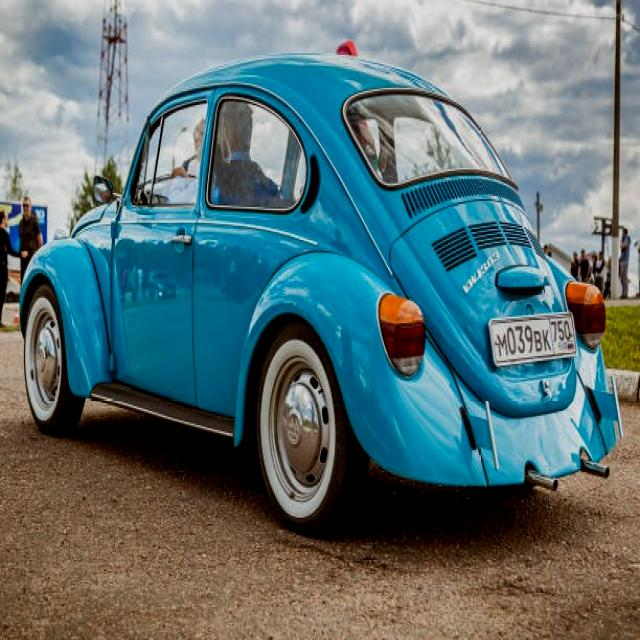car: (17, 54, 623, 509)
